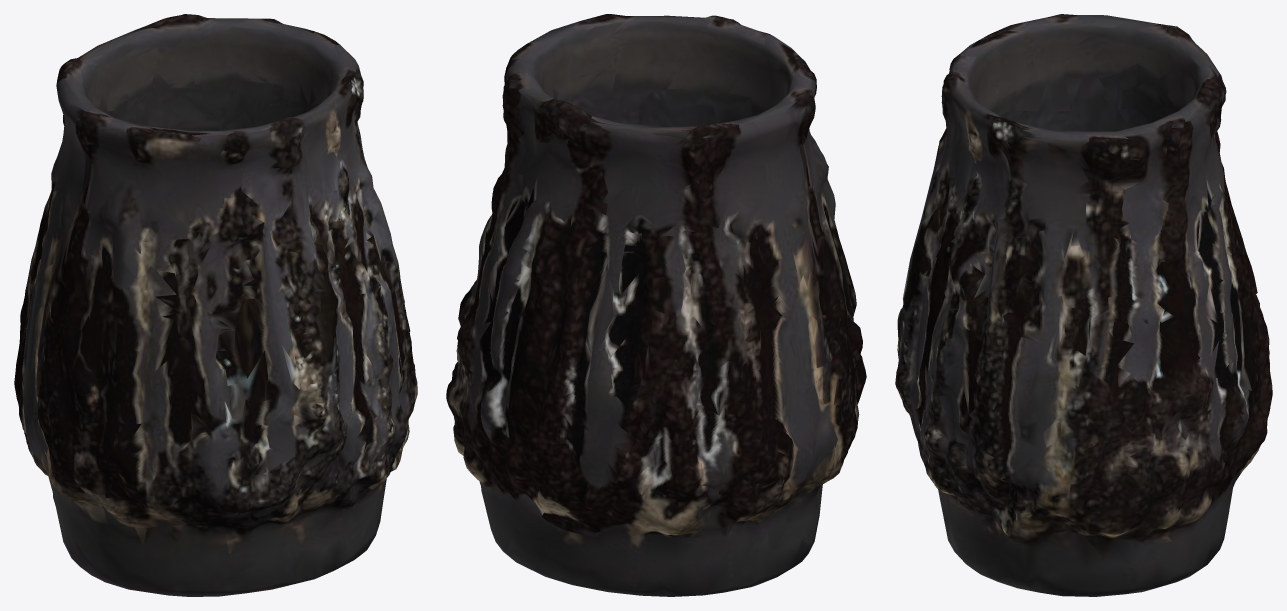
Rendered from MaterialPlace_01.glb.
3 views of the same model, side by side, from view 1: azimuth 30°, elevation 25°; view 2: azimuth 150°, elevation 25°; view 3: azimuth 270°, elevation 25° (orthographic). The views are drawn at different scales.
Visible parts, largest first — view 1: Meshy_AI_Obsidian_Cascade_0522214442_texture; view 2: Meshy_AI_Obsidian_Cascade_0522214442_texture; view 3: Meshy_AI_Obsidian_Cascade_0522214442_texture.
Boxes of the visible parts, bbox=[...] form: Meshy_AI_Obsidian_Cascade_0522214442_texture: bbox=[14, 14, 417, 596]; Meshy_AI_Obsidian_Cascade_0522214442_texture: bbox=[446, 14, 866, 596]; Meshy_AI_Obsidian_Cascade_0522214442_texture: bbox=[895, 14, 1272, 596].
Bounding box in the file's own units: 1.54 × 1.9 × 1.41.
Materials: 1 (1 with a texture image).
